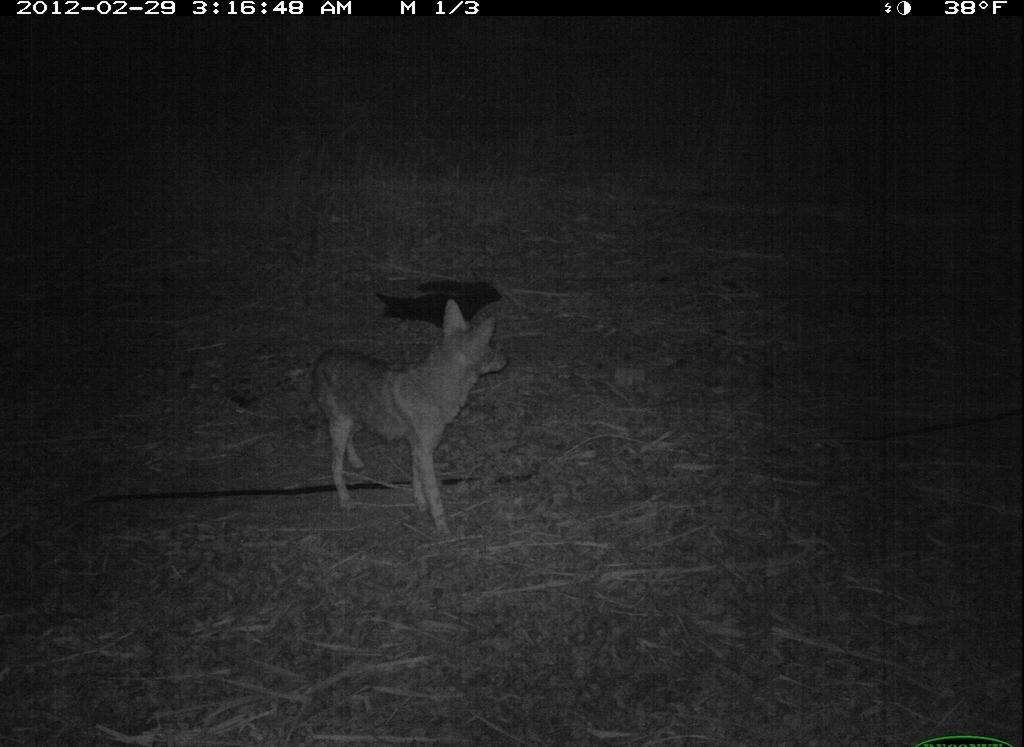coyote: (286, 296, 514, 547)
